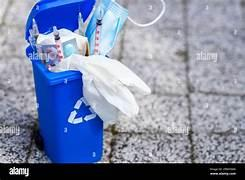Mask: (86, 0, 127, 55)
Syringe: (94, 6, 103, 54), (53, 26, 64, 61)
